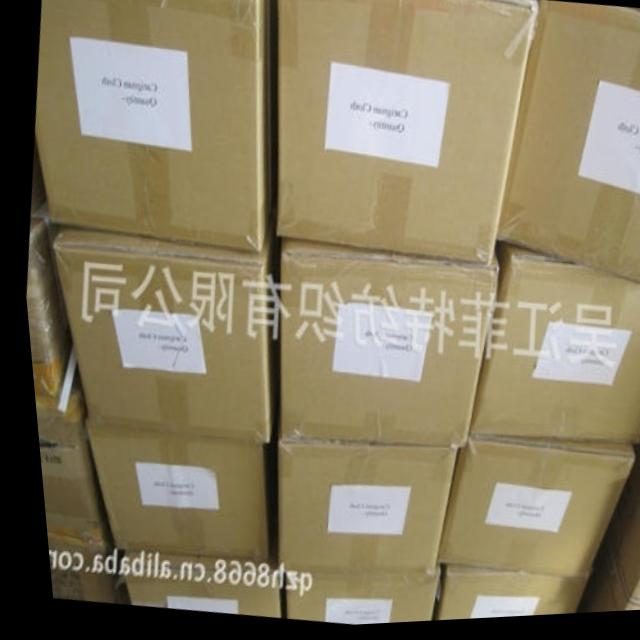box: (271, 0, 538, 269), (32, 0, 270, 255), (48, 228, 268, 447), (270, 243, 495, 452), (491, 5, 640, 295), (461, 248, 640, 451), (426, 441, 624, 583), (77, 420, 256, 568), (267, 443, 449, 581), (110, 551, 268, 620), (587, 428, 640, 617), (28, 387, 92, 543), (272, 571, 428, 628), (21, 196, 64, 400), (422, 570, 577, 625), (38, 538, 106, 605)
